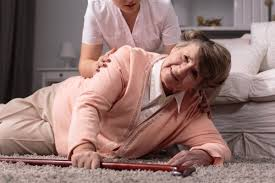falling: (16, 36, 239, 179)
